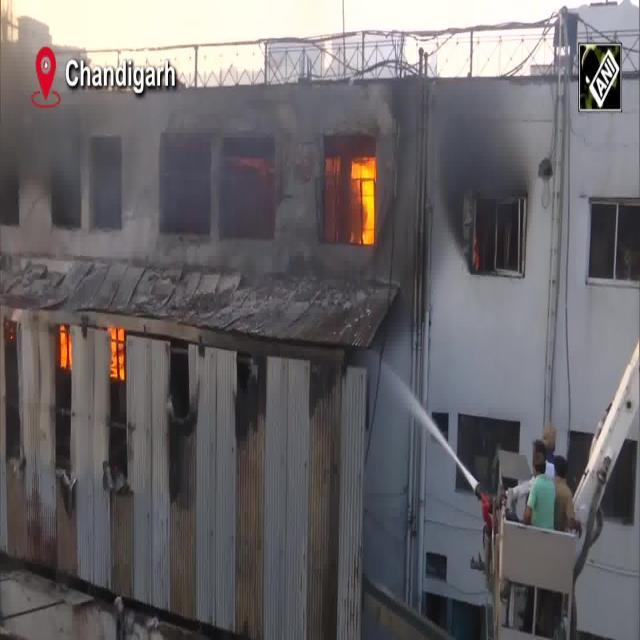Fire: (348, 154, 376, 247), (111, 331, 128, 382), (58, 324, 72, 372)
Smoke: (162, 101, 270, 210), (15, 110, 127, 153)
